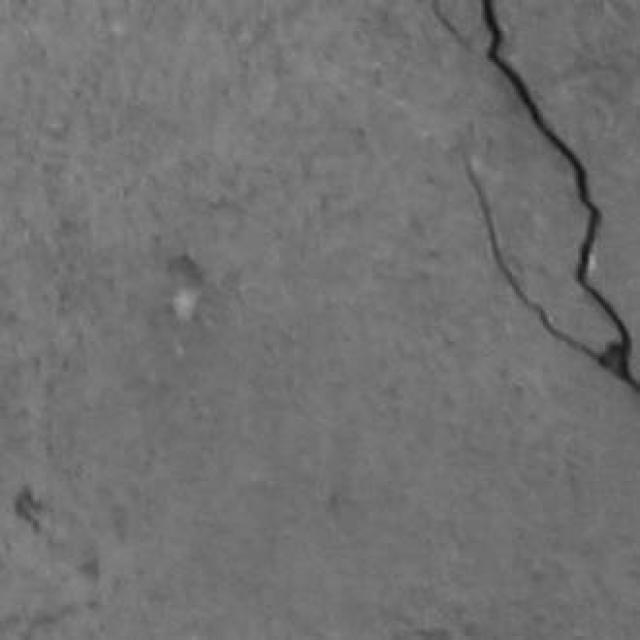crack: (481, 0, 639, 391), (464, 154, 599, 358), (431, 0, 469, 50)
